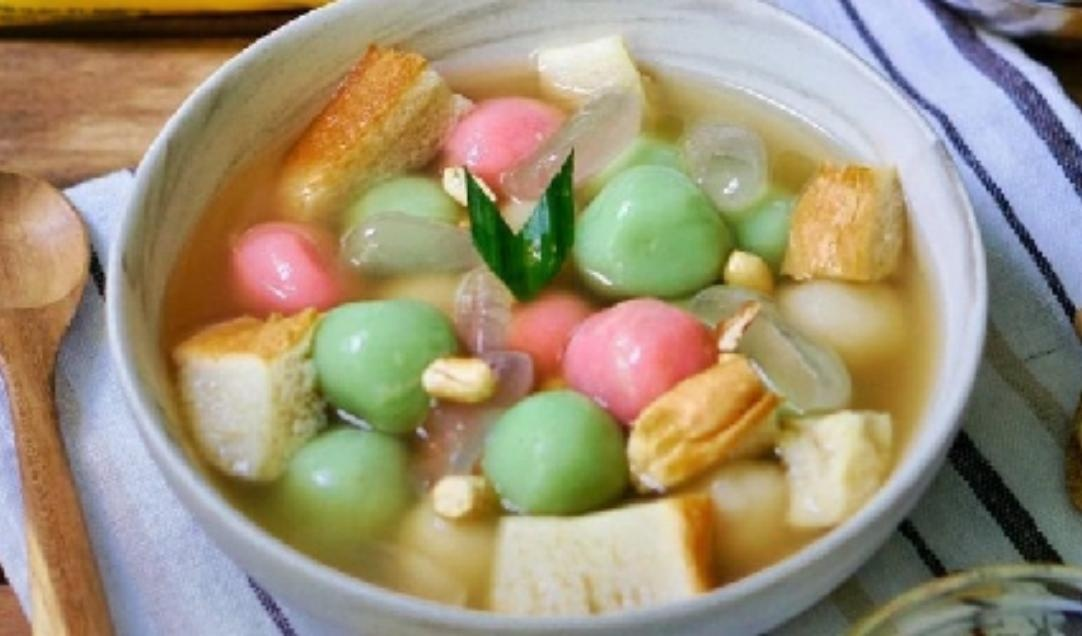ronde: (152, 37, 937, 616)
